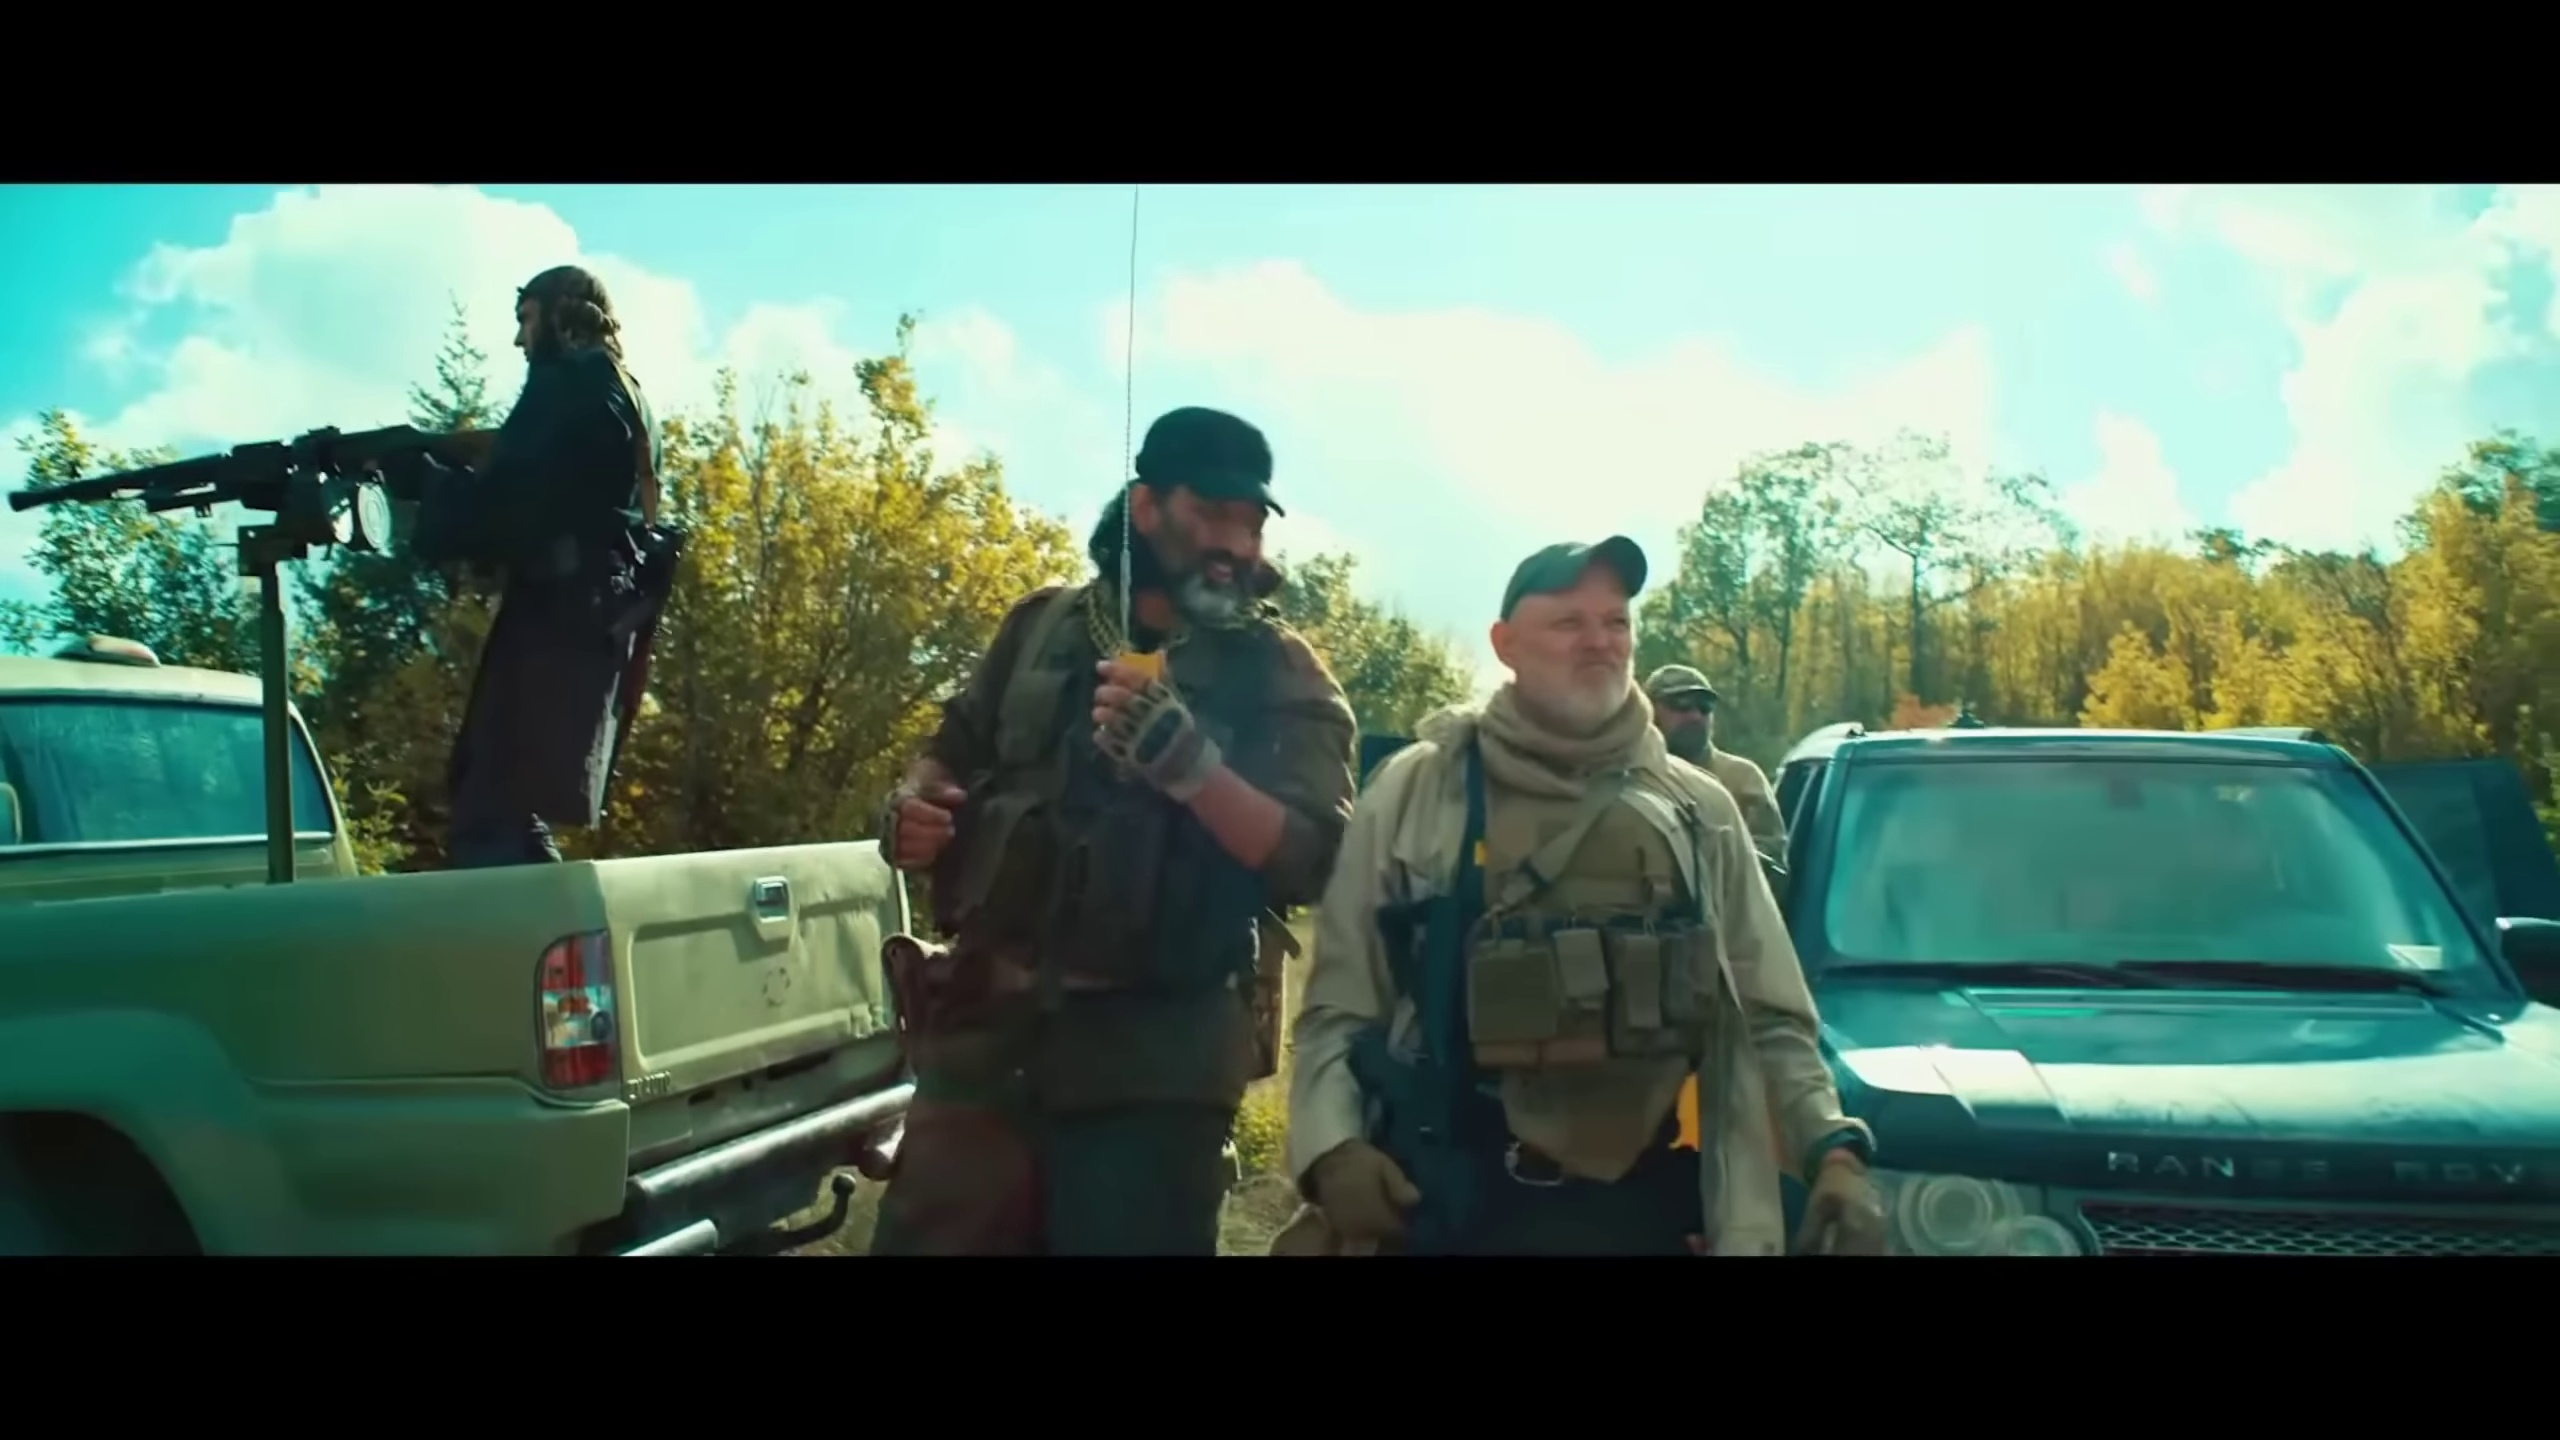gun: (0, 415, 503, 552), (1331, 888, 1498, 1250), (601, 515, 695, 818)
p_w_gun: (1294, 531, 1885, 1262), (0, 262, 696, 869)
p_wo_gun_not_carrying_normal_pose: (856, 403, 1370, 1254), (1632, 658, 1792, 897)
